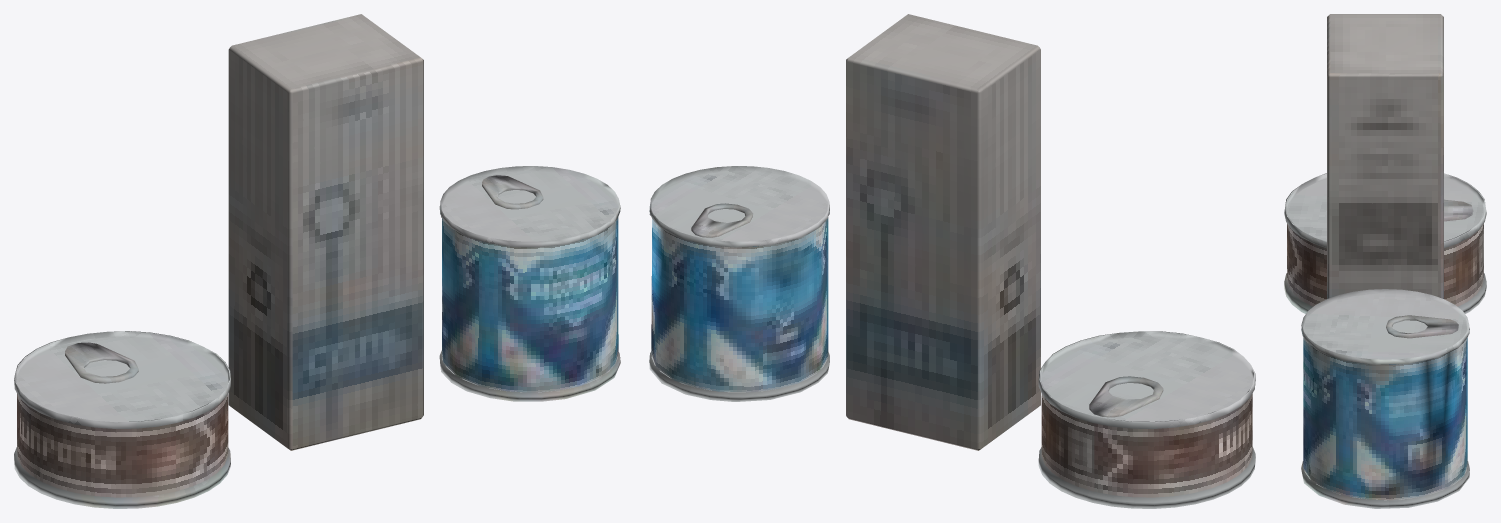
File: russian_food_cans_01.glb
3 renders of one model, left to right at view 1: azimuth 30°, elevation 25°; view 2: azimuth 150°, elevation 25°; view 3: azimuth 270°, elevation 25°, orthographic. The views are drawn at different scales.
Parts seen in each view (by area): view 1: russian_food_cans_01_salt_box; view 2: russian_food_cans_01_salt_box; view 3: russian_food_cans_01_salt_box.
Part boxes in pixels (<box>): russian_food_cans_01_salt_box: <box>14,14,620,508</box>; russian_food_cans_01_salt_box: <box>649,14,1255,508</box>; russian_food_cans_01_salt_box: <box>1284,14,1486,508</box>.
Size of the model in its own units: 0.1424 by 0.0849 by 0.0462.
Materials: 1 (1 with a texture image).
